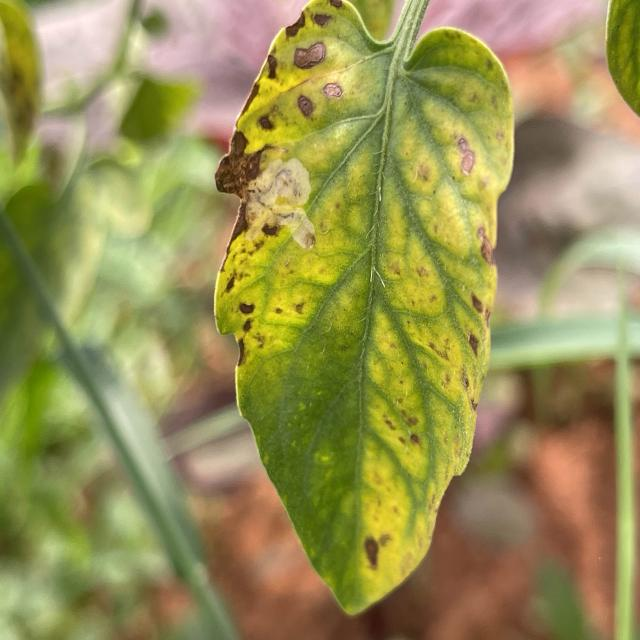tomato_early blight: (215, 0, 513, 621)
